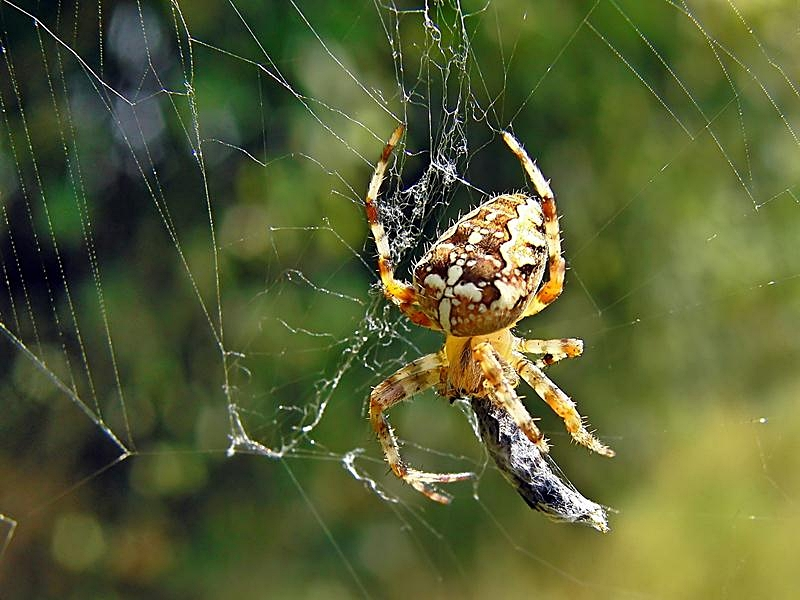spider: (279, 89, 650, 531)
